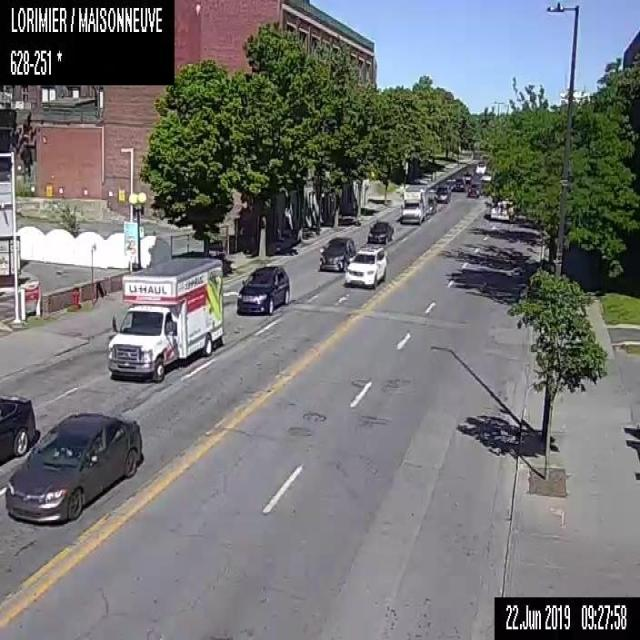bus: (490, 198, 515, 222)
vehicle: (5, 413, 142, 520), (106, 257, 225, 379), (235, 263, 289, 313), (0, 396, 35, 465), (344, 246, 385, 286), (318, 236, 356, 270), (400, 185, 428, 222), (367, 221, 392, 242), (435, 185, 450, 202), (467, 180, 480, 197), (428, 191, 437, 213), (454, 177, 464, 190), (475, 162, 485, 174), (462, 170, 472, 181)
